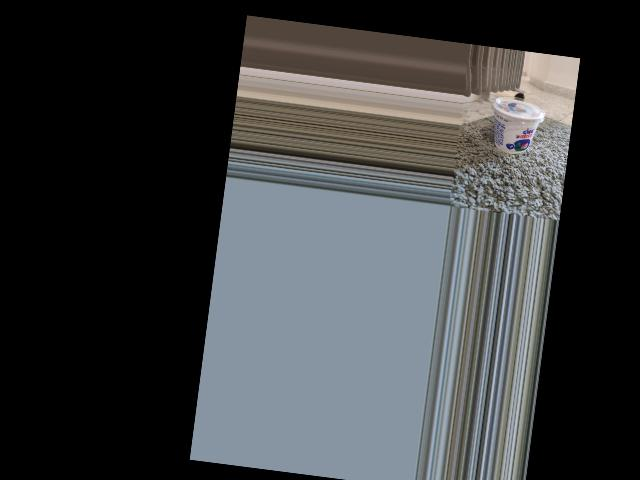cotage: (489, 94, 543, 158)
